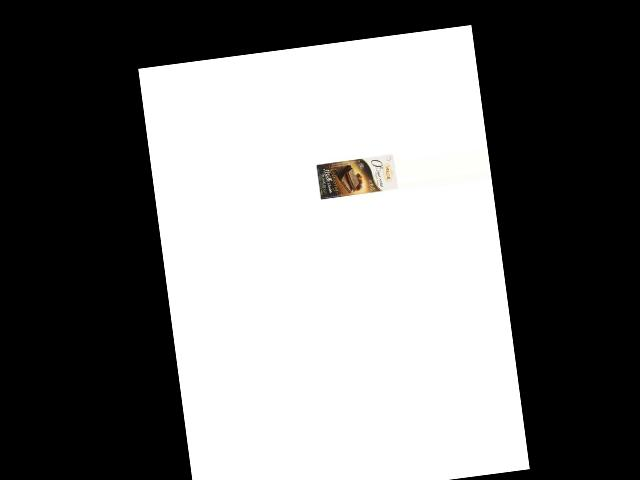chocolate: (315, 152, 398, 201)
